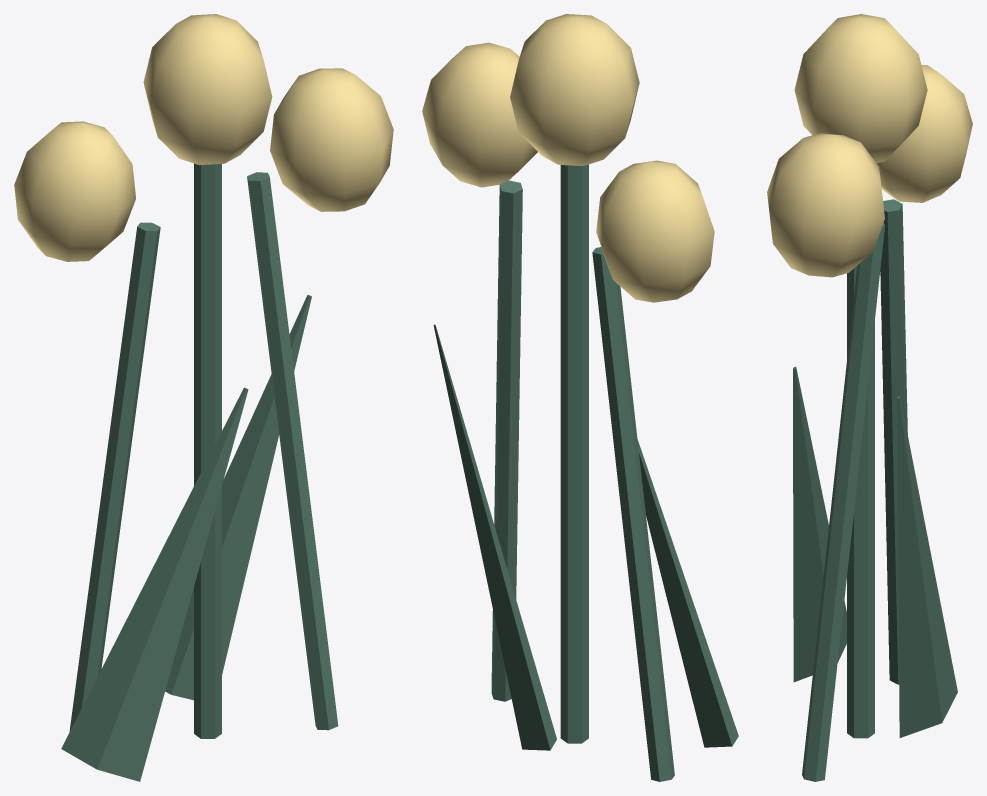
File: tulip-cluster-yellow.glb
3 views of the same model, side by side, from view 1: azimuth 30°, elevation 25°; view 2: azimuth 150°, elevation 25°; view 3: azimuth 270°, elevation 25° (orthographic).
Parts seen in each view (by area): view 1: tulip-cluster-yellow; view 2: tulip-cluster-yellow; view 3: tulip-cluster-yellow.
Part boxes in pixels (bbox=[...]): tulip-cluster-yellow: bbox=[14, 14, 393, 781]; tulip-cluster-yellow: bbox=[422, 14, 738, 781]; tulip-cluster-yellow: bbox=[767, 14, 972, 781].
Bounding box in the file's own units: 0.2072 × 0.45 × 0.1175.
